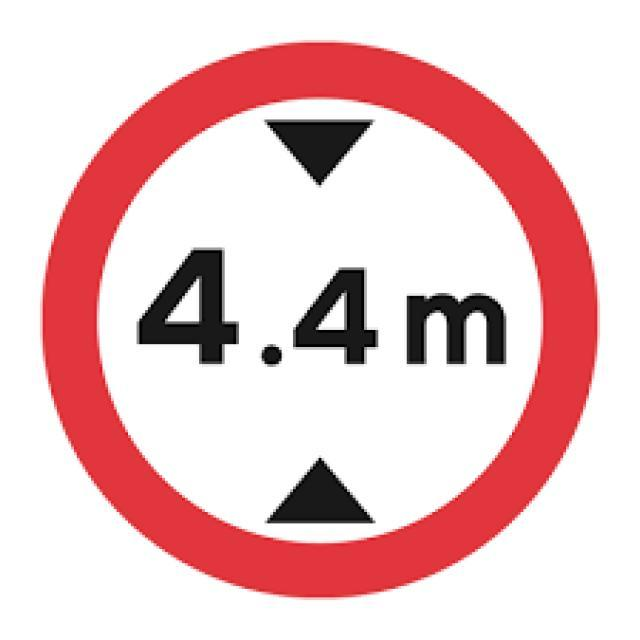height limit: (44, 42, 600, 601)
